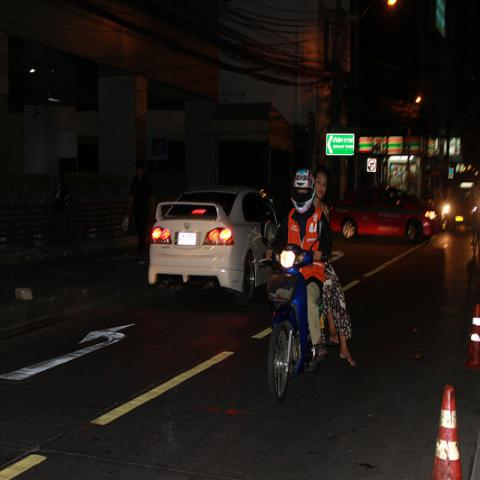car: (148, 185, 284, 307), (329, 184, 449, 241), (442, 182, 479, 233)
motorcycle: (258, 223, 330, 407)
